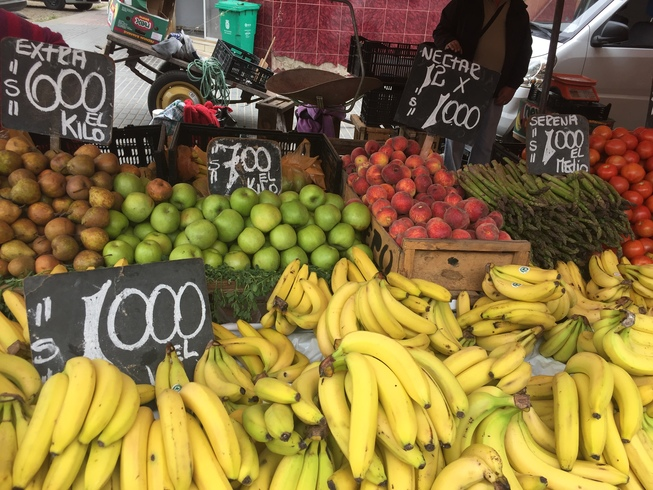precio: (20, 252, 212, 405), (1, 36, 118, 151), (393, 37, 497, 145), (203, 132, 290, 210), (521, 107, 600, 183)
